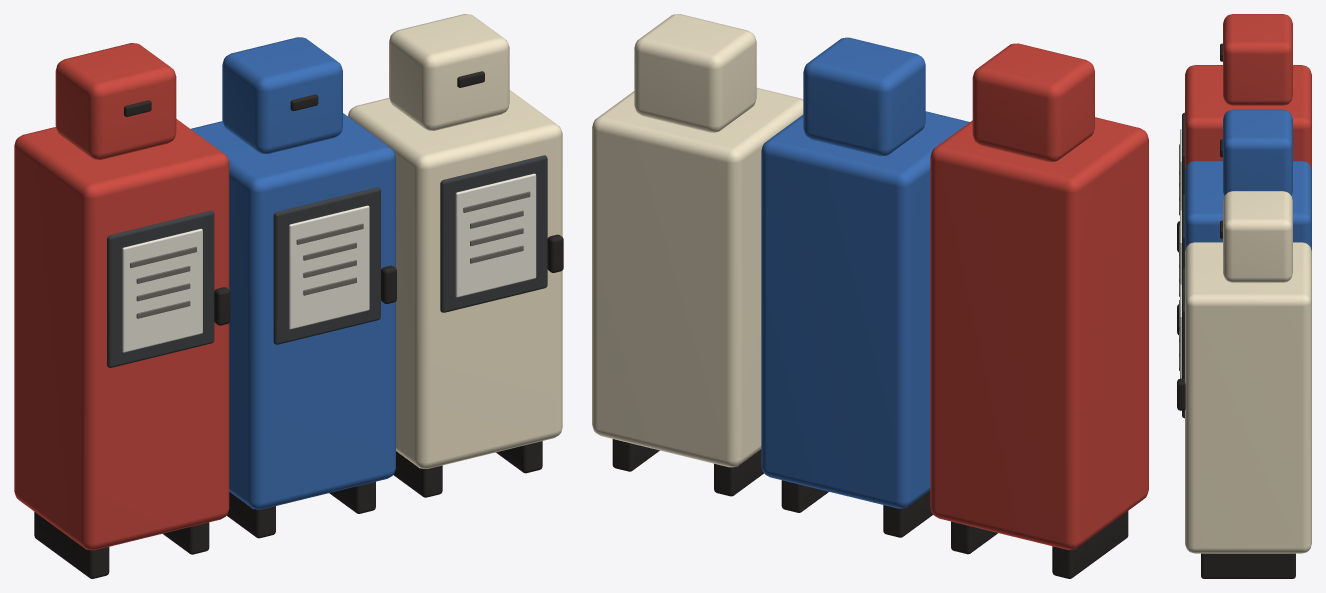
Rendered from street_newsboxes.glb.
3 views of the same model, side by side, from view 1: azimuth 30°, elevation 25°; view 2: azimuth 150°, elevation 25°; view 3: azimuth 270°, elevation 25° (orthographic). The views are drawn at different scales.
Visible parts, largest first — view 1: Body0, Body1, Body2, Head0, Head2, Head1, Paper2, Paper1, Paper0, Window0, Window2, Window1 (+6 smaller); view 2: Body0, Body1, Body2, Head2, Head1, Head0, Leg0-1, Leg1-1, Leg2-1, Leg11, Leg21, Leg01; view 3: Body2, Head2, Head0, Body0, Head1, Body1, Leg21, Window2, Handle2, Window0, Window1.
Part boxes in pixels (x1,y1,x2,y2): Body0: (14, 119, 229, 550); Body1: (191, 113, 395, 509); Body2: (348, 90, 562, 468); Head0: (55, 43, 176, 159); Head2: (389, 14, 509, 130); Head1: (222, 37, 342, 153); Paper2: (455, 173, 536, 297); Paper1: (289, 205, 369, 329); Paper0: (122, 228, 202, 352); Window0: (107, 210, 214, 367); Window2: (440, 155, 547, 312); Window1: (273, 187, 380, 344); Body0: (930, 117, 1148, 549); Body1: (761, 111, 969, 508); Body2: (592, 88, 803, 467); Head2: (634, 14, 756, 132); Head1: (803, 37, 925, 156); Head0: (972, 43, 1094, 161); Leg0-1: (1052, 511, 1128, 578); Leg1-1: (883, 491, 932, 537); Leg2-1: (714, 449, 763, 496); Leg11: (781, 480, 828, 512); Leg21: (612, 439, 659, 471); Leg01: (951, 521, 997, 554); Body2: (1185, 242, 1311, 553); Head2: (1223, 191, 1292, 282); Head0: (1223, 14, 1292, 105); Body0: (1185, 65, 1311, 169); Head1: (1223, 109, 1292, 195); Body1: (1185, 161, 1311, 251); Leg21: (1201, 553, 1295, 578); Window2: (1182, 268, 1184, 418); Handle2: (1177, 378, 1185, 410); Window0: (1182, 112, 1184, 195); Window1: (1182, 194, 1184, 269).
Bounding box in the file's own units: 1.74 × 1.66 × 0.515.
